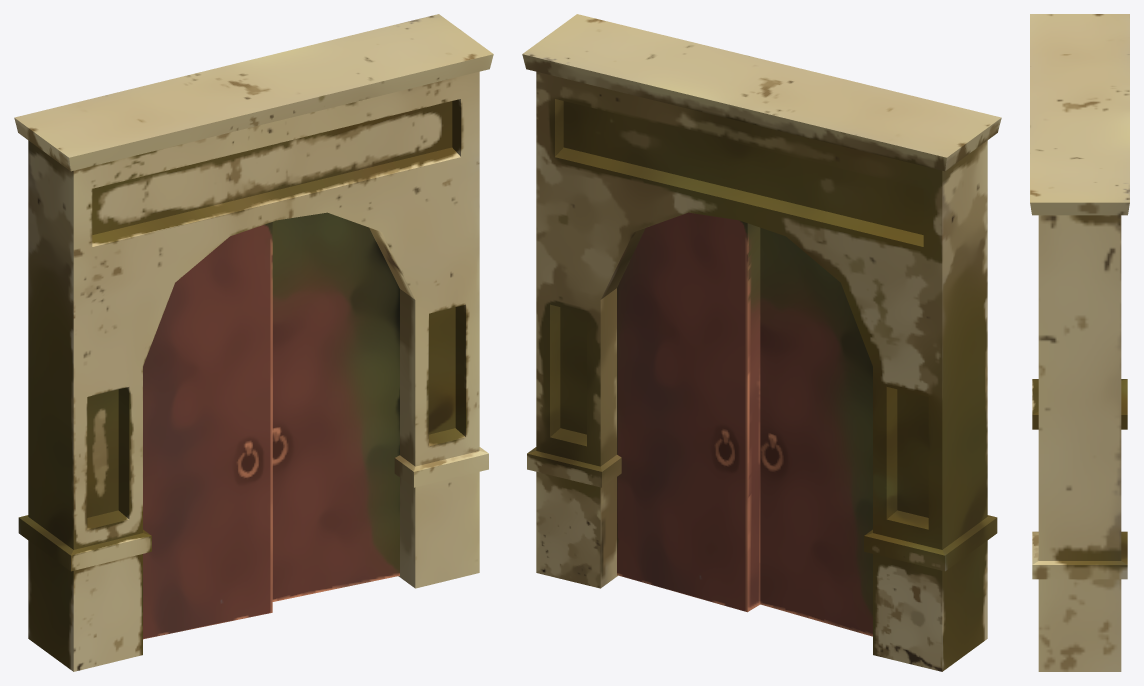
Rendered from Rome_Village_Props_35.FBX.
3 views of the same model, side by side, from view 1: azimuth 30°, elevation 25°; view 2: azimuth 150°, elevation 25°; view 3: azimuth 270°, elevation 25° (orthographic). The views are drawn at different scales.
Parts seen in each view (by area): view 1: Rome_Village_Props_35; view 2: Rome_Village_Props_35; view 3: Rome_Village_Props_35.
Part boxes in pixels (left/top/right/bottom): Rome_Village_Props_35: left=14, top=14, right=493, bottom=671; Rome_Village_Props_35: left=522, top=14, right=1001, bottom=671; Rome_Village_Props_35: left=1030, top=14, right=1129, bottom=671.
Size of the model in its own units: 333 by 390 by 74.64.
